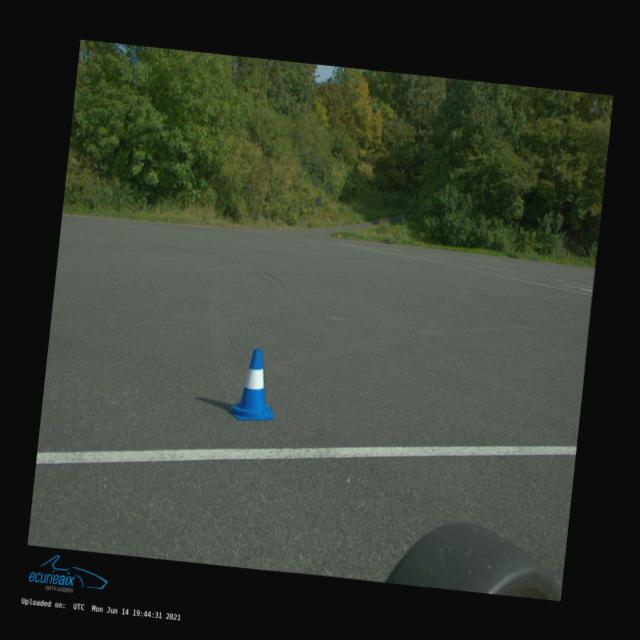blue_cone: (229, 346, 281, 424)
